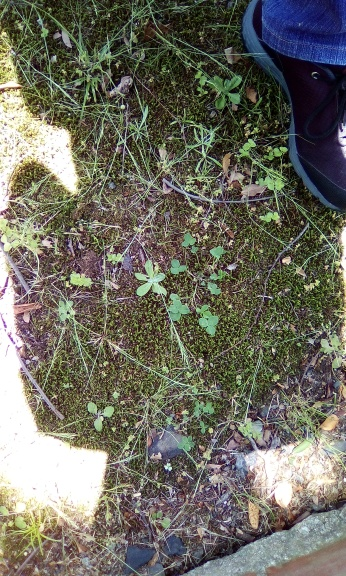4leaf: (167, 299, 190, 321)
